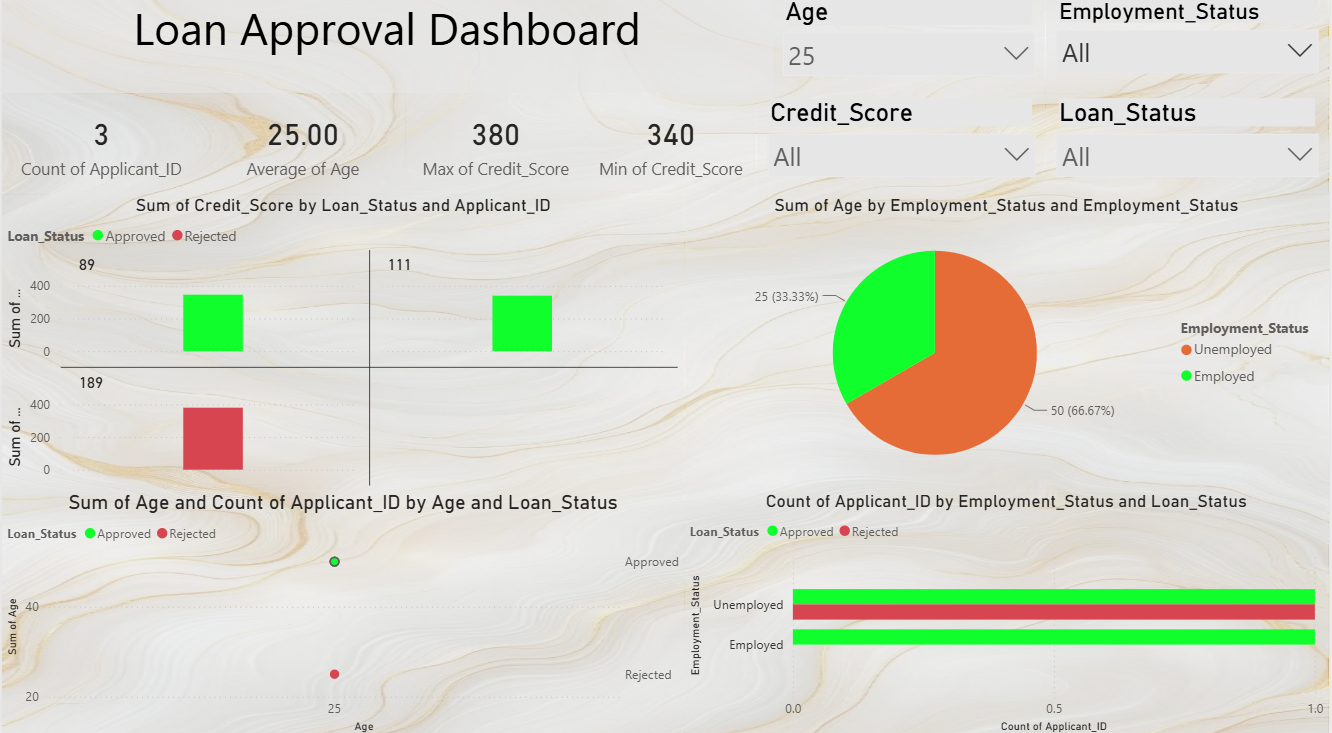

The dashboard page shown, as its layout file describes it:
{"tool":"powerbi","page":{"name":"Page 1","canvas":[1280,720],"ordinal":0},"visuals":[{"type":"card","fields":{"Values":["CountNonNull(loan_approval_data.Applicant_ID)"]},"box":[0,97.4,192.1,97.4],"z":0},{"type":"columnChart","fields":{"Y":["Sum(loan_approval_data.Credit_Score)"],"Series":["loan_approval_data.Loan_Status"],"Rows":["loan_approval_data.Applicant_ID"]},"box":[0,194.9,658.7,286.8],"z":1000},{"type":"lineChart","fields":{"Y":["Sum(loan_approval_data.Age)"],"Category":["loan_approval_data.Age"],"Series":["loan_approval_data.Loan_Status"]},"box":[0,481.6,658.7,238.8],"z":2000},{"type":"clusteredBarChart","fields":{"Category":["loan_approval_data.Employment_Status"],"Series":["loan_approval_data.Loan_Status"],"Y":["CountNonNull(loan_approval_data.Applicant_ID)"]},"box":[658.7,481.6,621.6,238.8],"z":3000},{"type":"card","fields":{"Values":["Max(loan_approval_data.Credit_Score)"]},"box":[389.7,97.4,174.3,97.4],"z":4000},{"type":"card","fields":{"Values":["Min(loan_approval_data.Credit_Score)"]},"box":[564,97.4,164.7,97.4],"z":5000},{"type":"card","fields":{"Values":["Avg(loan_approval_data.Age)"]},"box":[192.1,97.4,197.6,97.4],"z":6000},{"type":"slicer","fields":{"Values":["loan_approval_data.Employment_Status"]},"box":[1007.2,0,273.1,97.4],"z":7000},{"type":"slicer","fields":{"Values":["loan_approval_data.Age"]},"box":[743.7,0,263.5,97.4],"z":8000},{"type":"slicer","fields":{"Values":["loan_approval_data.Loan_Status"]},"box":[1007.2,97.4,273.1,97.4],"z":9000},{"type":"pieChart","fields":{"Category":["loan_approval_data.Employment_Status"],"Y":["Sum(loan_approval_data.Age)"],"Series":["loan_approval_data.Employment_Status"]},"box":[658.7,194.9,621.6,286.8],"z":10000},{"type":"textbox","box":[0,0,743.7,97.4],"z":11000},{"type":"slicer","fields":{"Values":["loan_approval_data.Credit_Score"]},"box":[728.6,97.4,278.6,97.4],"z":12000}]}

Visuals, with their boxes in screenshot pixels (x1, y1, x2, y2), scaled from the page's 1280x720 canvas onto the 1332x733 screenshot:
card - CountNonNull(loan_approval_data.Applicant_ID): l=0, t=99, r=200, b=198
columnChart - Sum(loan_approval_data.Credit_Score) x loan_approval_data.Loan_Status: l=0, t=198, r=685, b=490
lineChart - Sum(loan_approval_data.Age) x loan_approval_data.Age: l=0, t=490, r=685, b=732
clusteredBarChart - loan_approval_data.Employment_Status x loan_approval_data.Loan_Status: l=685, t=490, r=1331, b=732
card - Max(loan_approval_data.Credit_Score): l=406, t=99, r=587, b=198
card - Min(loan_approval_data.Credit_Score): l=587, t=99, r=758, b=198
card - Avg(loan_approval_data.Age): l=200, t=99, r=406, b=198
slicer - loan_approval_data.Employment_Status: l=1048, t=0, r=1331, b=99
slicer - loan_approval_data.Age: l=774, t=0, r=1048, b=99
slicer - loan_approval_data.Loan_Status: l=1048, t=99, r=1331, b=198
pieChart - loan_approval_data.Employment_Status x Sum(loan_approval_data.Age): l=685, t=198, r=1331, b=490
textbox: l=0, t=0, r=774, b=99
slicer - loan_approval_data.Credit_Score: l=758, t=99, r=1048, b=198
